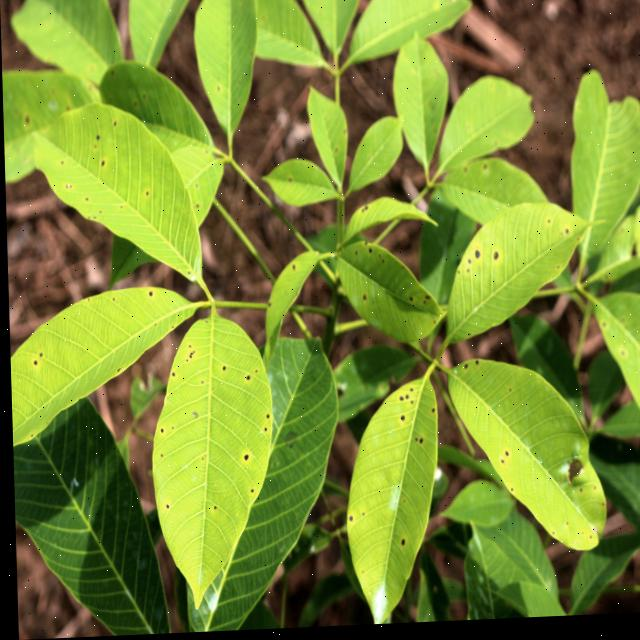Colletotrichum: (241, 457, 245, 463), (244, 378, 248, 383), (221, 368, 223, 373)
